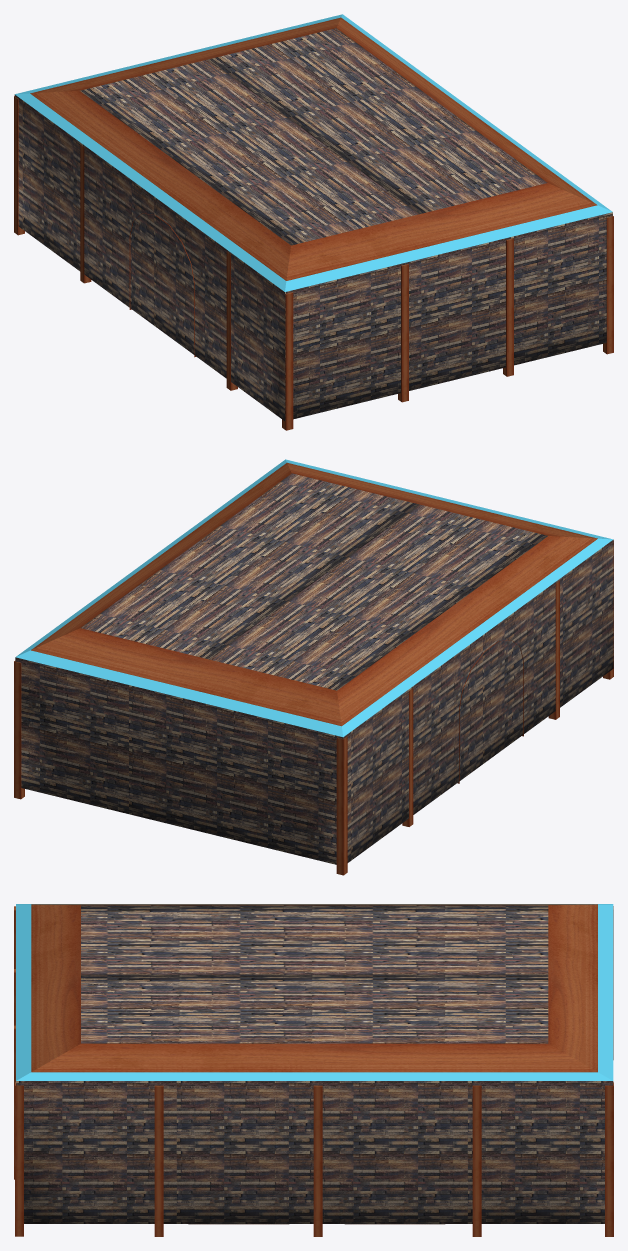
File: main building.fbx
The picture shows the model from 3 angles, top to bottom: view 1: azimuth 30°, elevation 25°; view 2: azimuth 150°, elevation 25°; view 3: azimuth 270°, elevation 25°; orthographic projection. The views are drawn at different scales.
Visible parts, largest first — view 1: main_building; view 2: main_building; view 3: main_building.
Boxes of the visible parts, left/top/right/bottom form: main_building: left=14, top=14, right=613, bottom=430; main_building: left=14, top=459, right=613, bottom=875; main_building: left=14, top=904, right=613, bottom=1236.
Bounding box in the file's own units: 4883 × 2220 × 6965.
